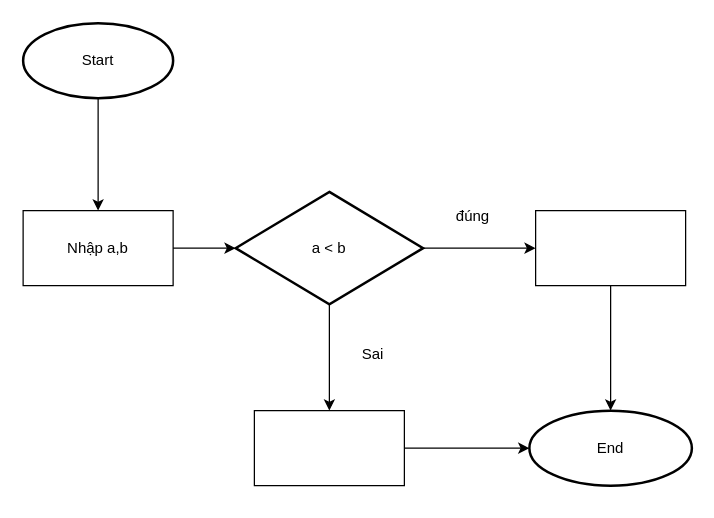
This 714x518 diagram has some shape labels left out. The box of each missing label's shape, as (x1, y1, x2, y2) in pixels:
số nhỏ nhất là a: (534, 209, 686, 286)
số nhỏ nhất là b: (253, 409, 404, 486)
